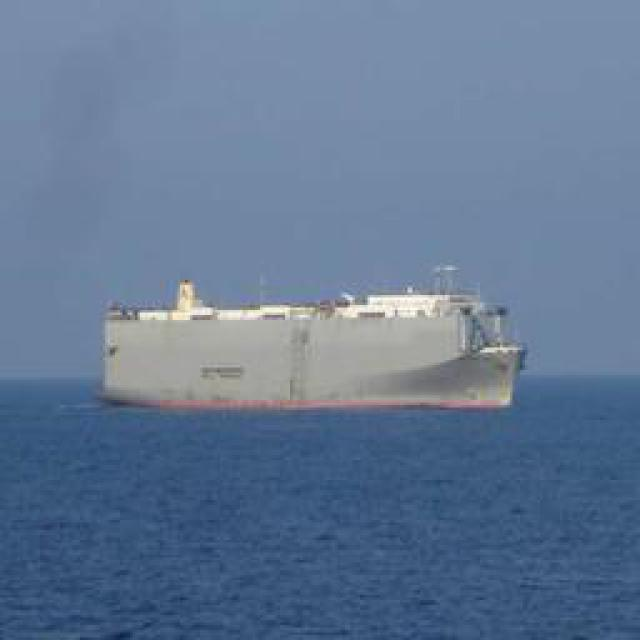Ship: (106, 269, 524, 412)
